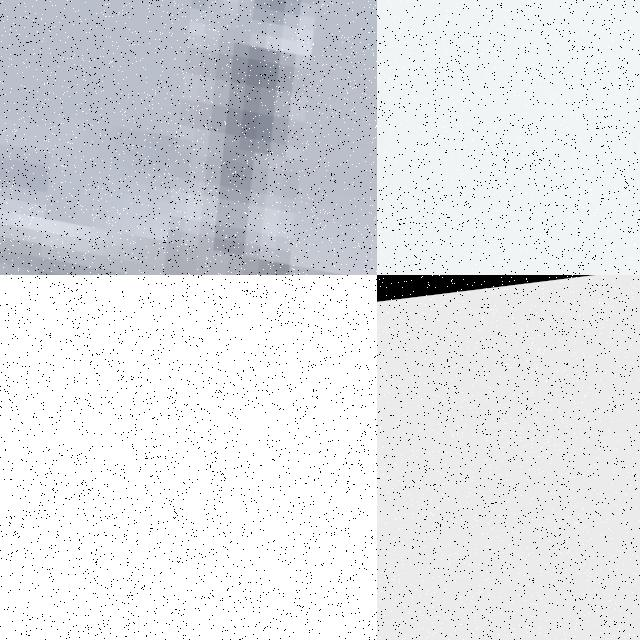0: (0, 0, 377, 275)
drone: (377, 0, 640, 275)
